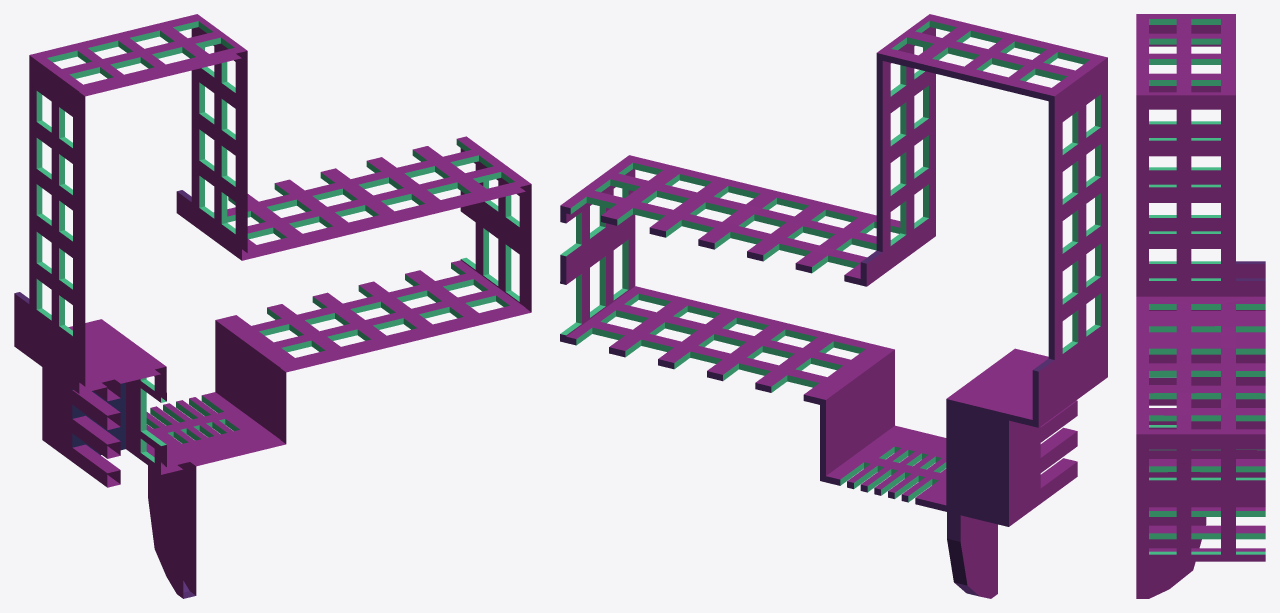
Rendered from Lasy_Państwowe Tier 2.fbx.
The picture shows the model from 3 angles, left to right: view 1: azimuth 30°, elevation 25°; view 2: azimuth 150°, elevation 25°; view 3: azimuth 270°, elevation 25°; orthographic projection. The views are drawn at different scales.
Parts seen in each view (by area): view 1: Lasy_Panstwowe; view 2: Lasy_Panstwowe; view 3: Lasy_Panstwowe.
Boxes of the visible parts, x1,y1,x2,y2 form: Lasy_Panstwowe: [14, 14, 531, 598]; Lasy_Panstwowe: [560, 14, 1107, 598]; Lasy_Panstwowe: [1136, 14, 1265, 598].
Bounding box in the file's own units: 3.76 × 4.23 × 0.9393.
